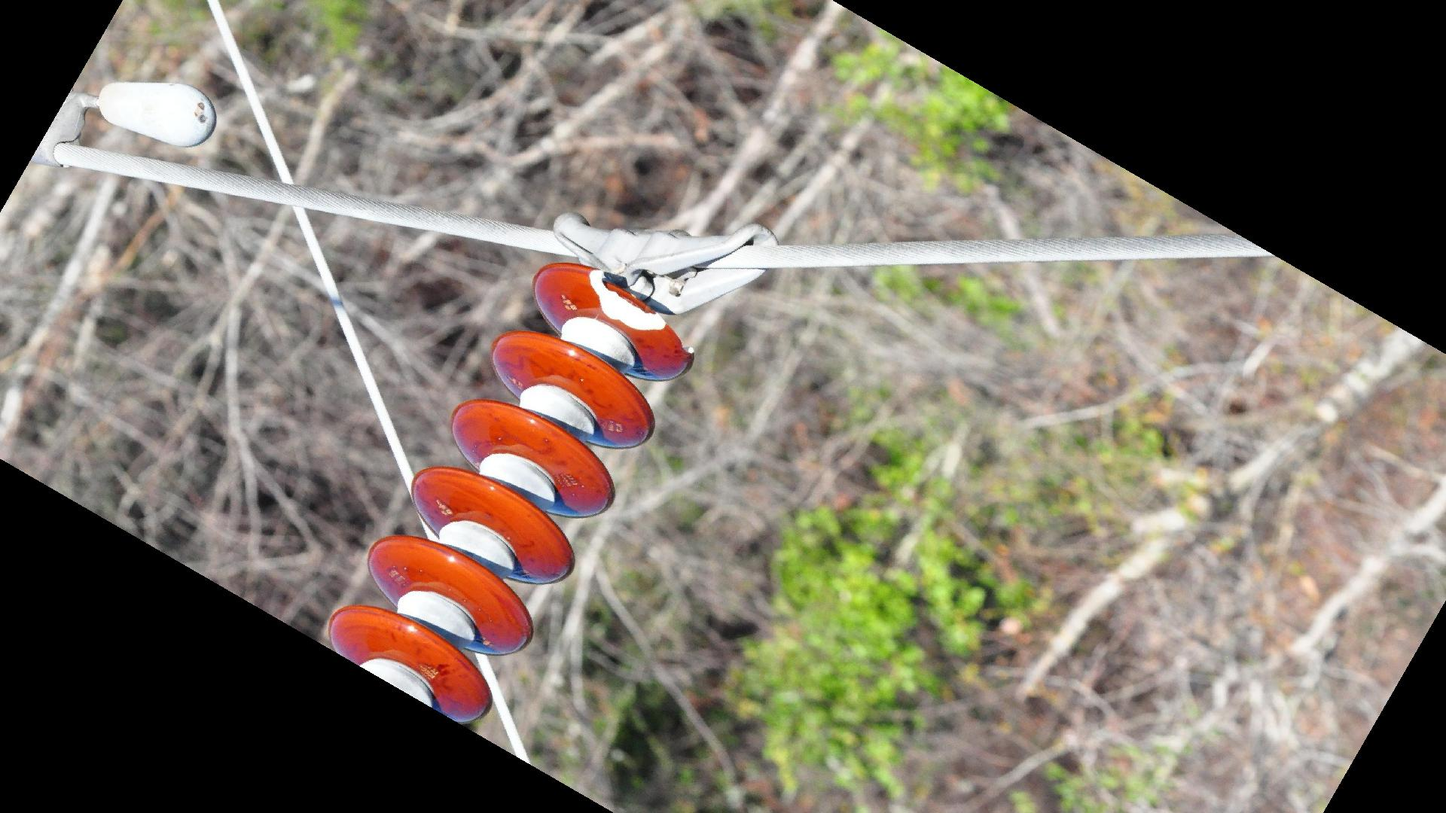insulator: (318, 252, 706, 733)
insulator_breakage: (578, 260, 700, 364)
